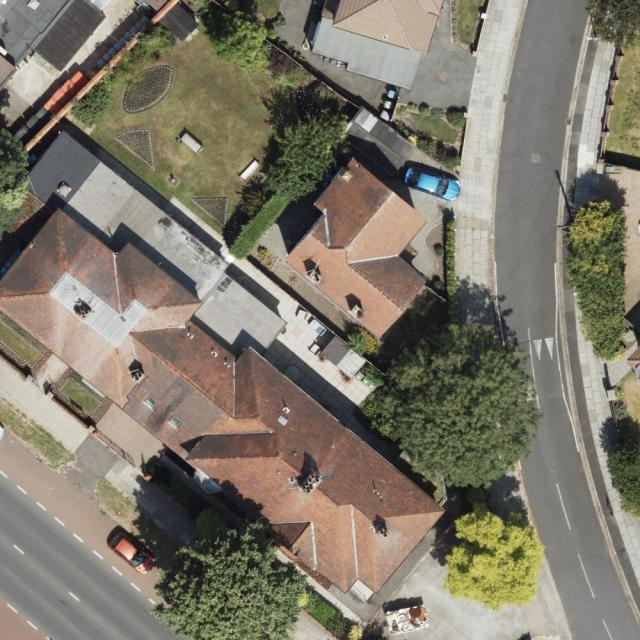roof: (0, 131, 449, 596), (284, 155, 429, 344), (310, 0, 445, 89), (0, 0, 110, 96)
skylight: (166, 412, 184, 431), (141, 393, 159, 408)
